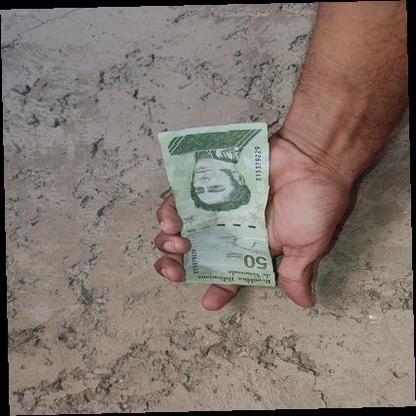fifty-front-vef: (156, 121, 277, 287)
